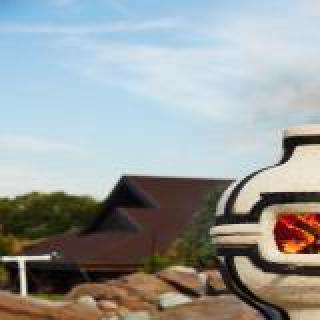fire: (274, 212, 320, 264)
